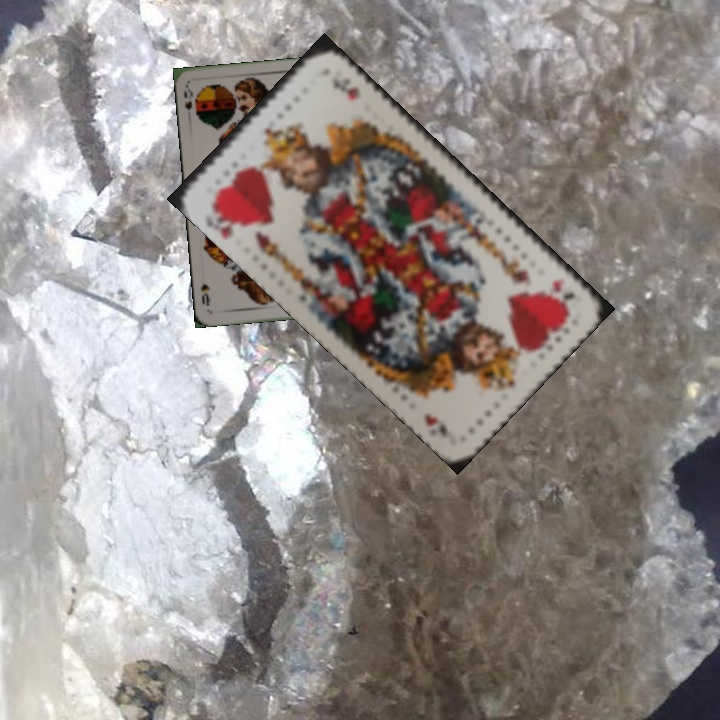HK: (549, 275, 585, 313), (212, 215, 246, 242)
SO: (180, 82, 195, 113)
